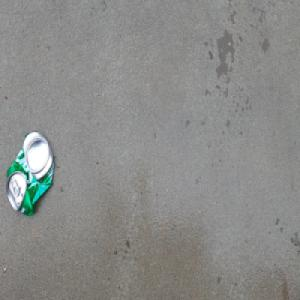SodaCan: (5, 128, 55, 219)
